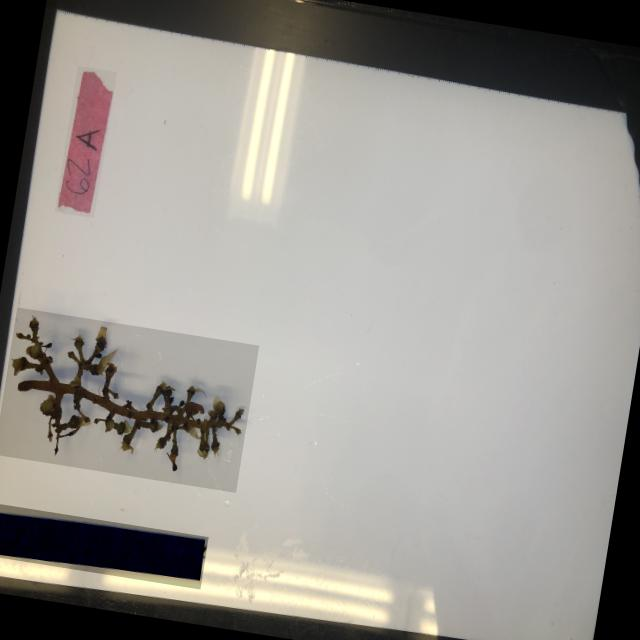index: (54, 65, 118, 217)
measure_label: (0, 502, 209, 588)
rachis_cluster: (0, 306, 259, 491)
